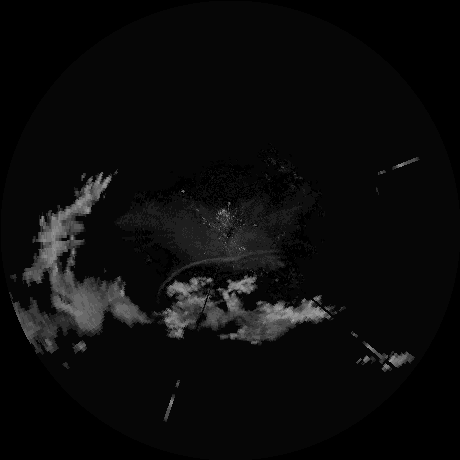frontgust: (161, 249, 278, 283)
